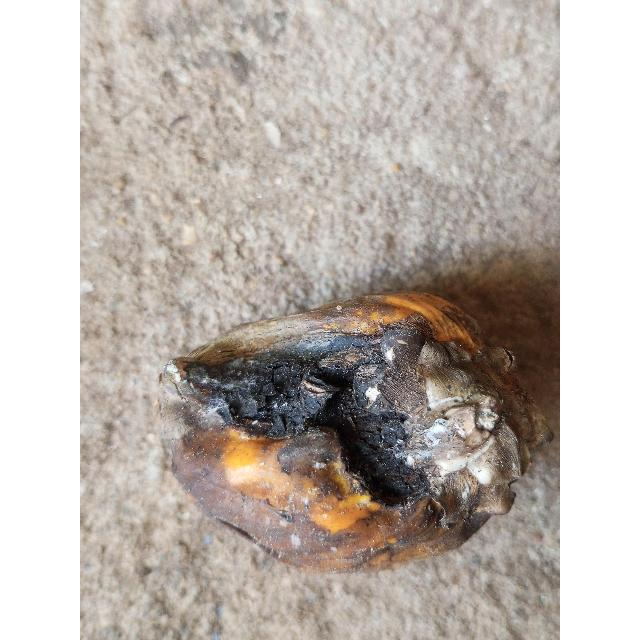damaged: (155, 292, 542, 575)
